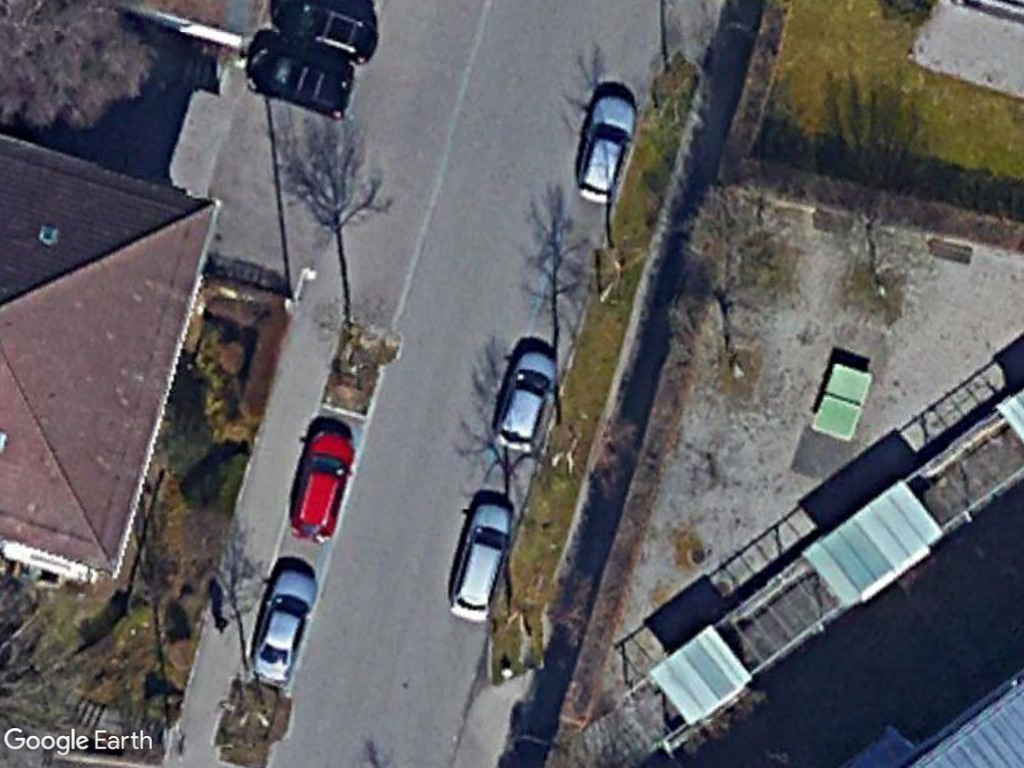car: (442, 497, 521, 628), (287, 423, 362, 544), (249, 564, 321, 683), (570, 91, 640, 208), (487, 346, 561, 454)
